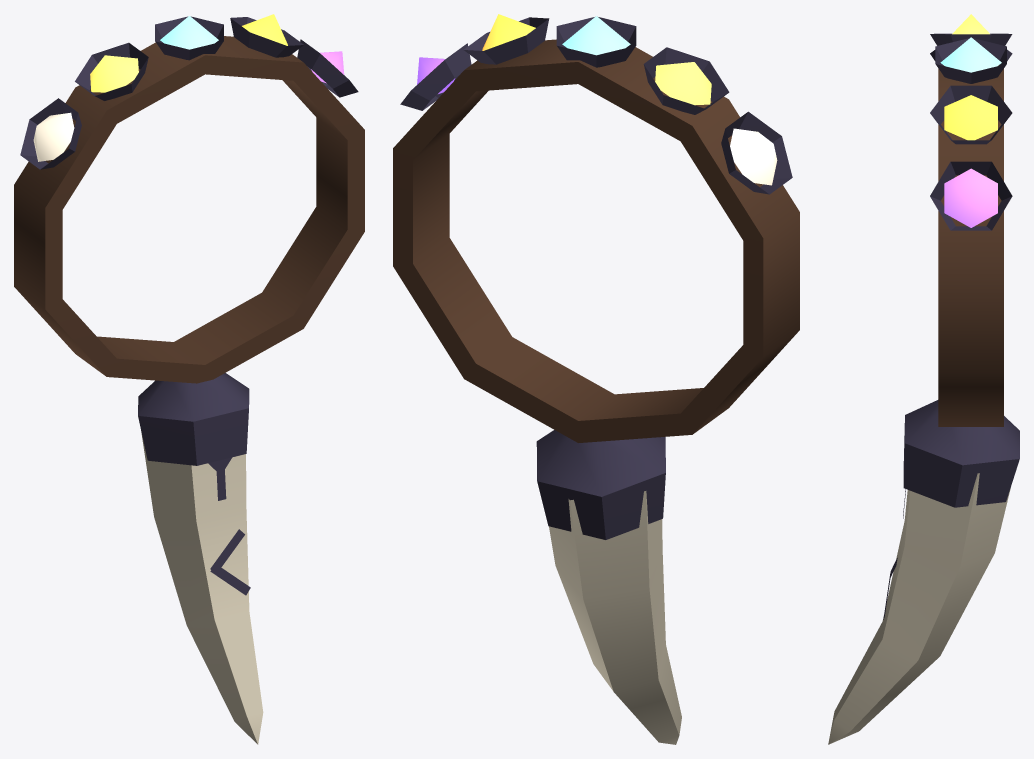
The model's file is tooth-charm-3.glb.
3 views of the same model, side by side, from view 1: azimuth 30°, elevation 25°; view 2: azimuth 150°, elevation 25°; view 3: azimuth 270°, elevation 25° (orthographic). The views are drawn at different scales.
Visible parts, largest first — view 1: tooth-charm-3; view 2: tooth-charm-3; view 3: tooth-charm-3.
Boxes of the visible parts, x1,y1,x2,y2 form: tooth-charm-3: (14, 14, 364, 744); tooth-charm-3: (393, 14, 799, 744); tooth-charm-3: (828, 14, 1019, 744).
Bounding box in the file's own units: 0.0734 × 0.1491 × 0.0366.
